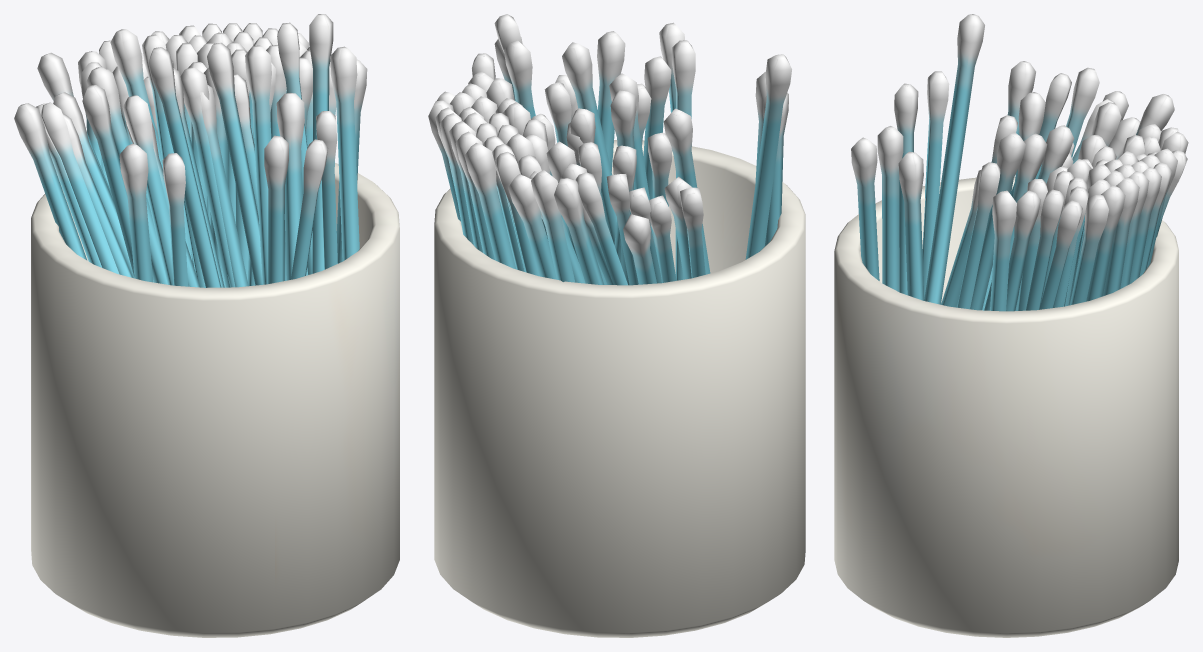
Rendered from Cotton_swabs.fbx.
The picture shows the model from 3 angles, left to right: view 1: azimuth 30°, elevation 25°; view 2: azimuth 150°, elevation 25°; view 3: azimuth 270°, elevation 25°; orthographic projection. The views are drawn at different scales.
Visible parts, largest first — view 1: Cotton_swabs; view 2: Cotton_swabs; view 3: Cotton_swabs.
Part boxes in pixels (box(x1,y1,x2,y2)): Cotton_swabs: box(14, 14, 399, 637); Cotton_swabs: box(428, 14, 805, 637); Cotton_swabs: box(834, 14, 1188, 637).
Bounding box in the file's own units: 400 × 630 × 411.
